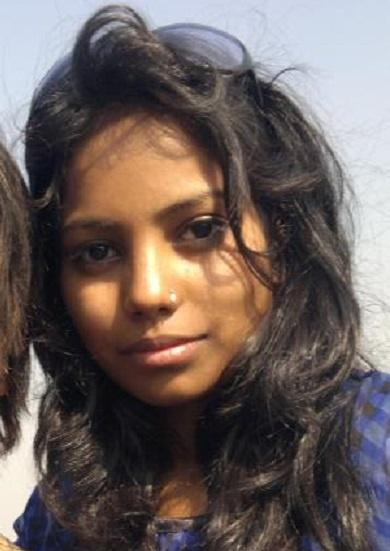No Mask: (42, 50, 365, 466)
